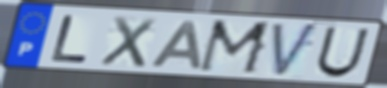A: (147, 19, 204, 71)
L: (48, 13, 92, 64)
M: (195, 18, 275, 77)
U: (313, 25, 372, 80)
V: (270, 21, 322, 80)
X: (97, 14, 159, 70)
